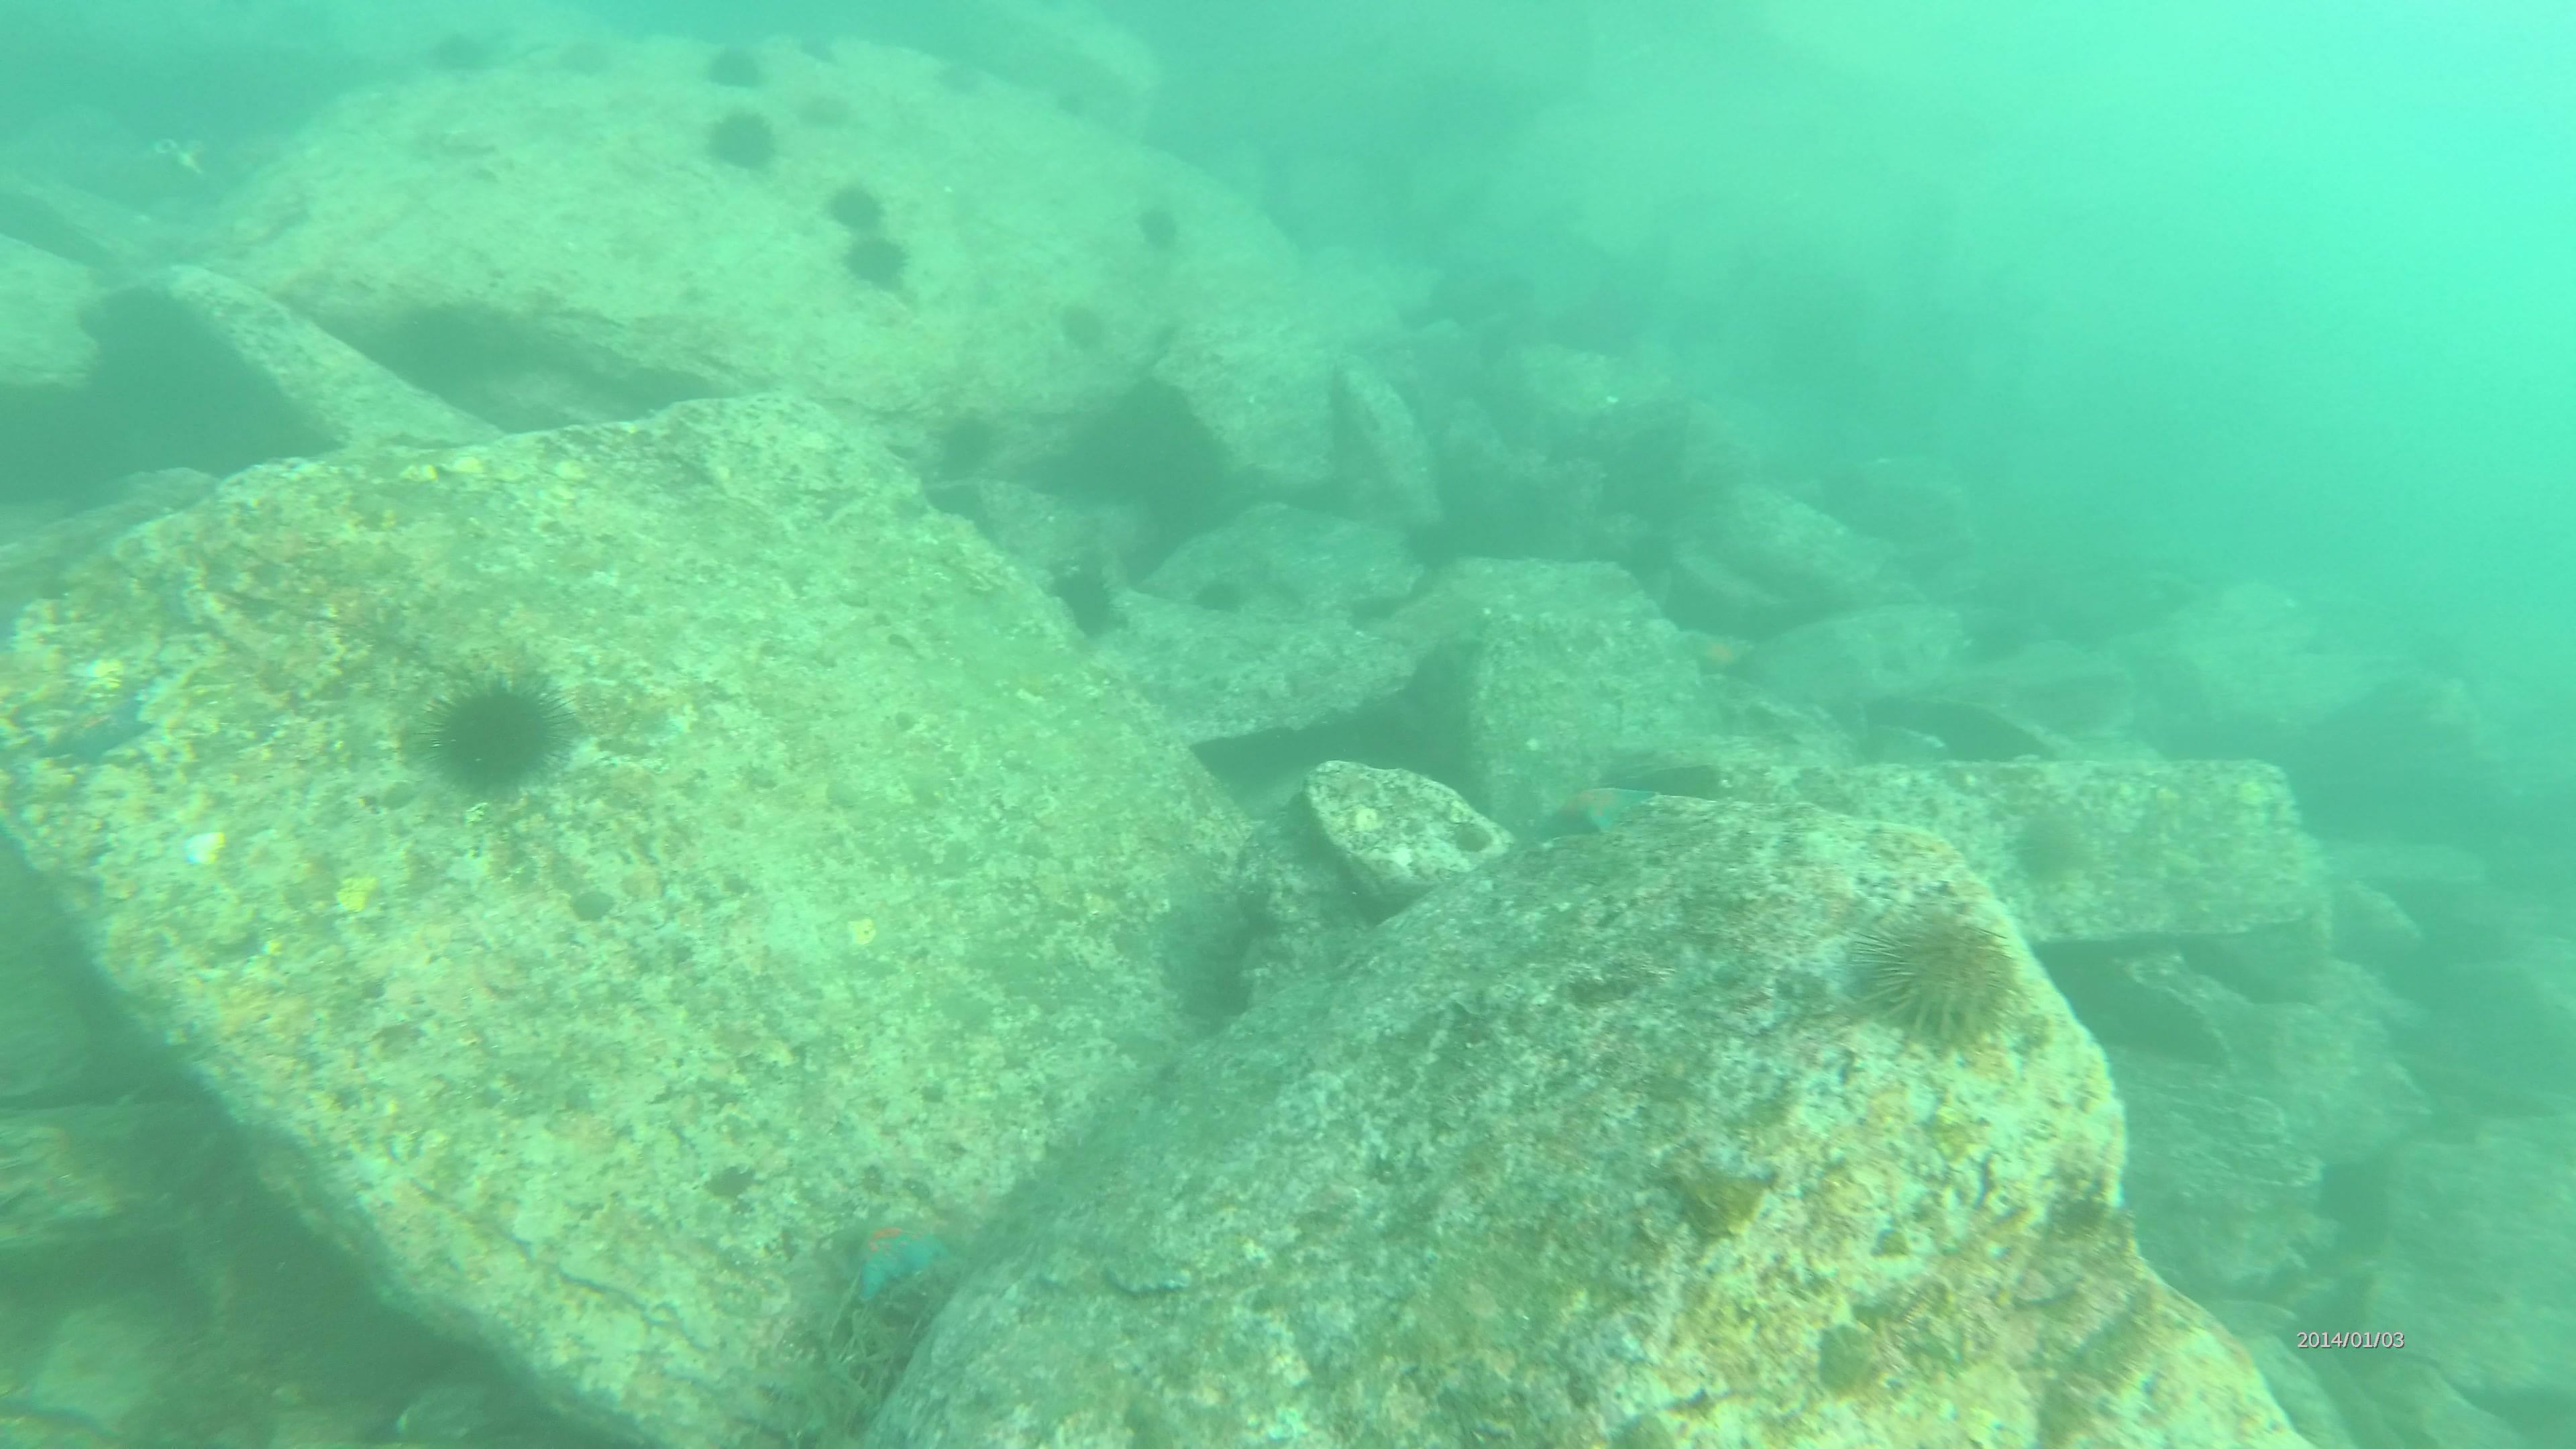echinus: (1859, 899, 2017, 1049), (426, 669, 575, 794), (1044, 561, 1122, 649), (701, 32, 780, 96), (708, 106, 782, 173), (819, 173, 899, 234), (421, 25, 497, 85), (842, 237, 916, 287), (1063, 287, 1111, 359), (1138, 193, 1185, 257), (924, 57, 985, 104), (557, 37, 612, 73)
starfish: (844, 1210, 984, 1306), (32, 688, 165, 766), (1529, 780, 1658, 842), (1675, 625, 1769, 685)
